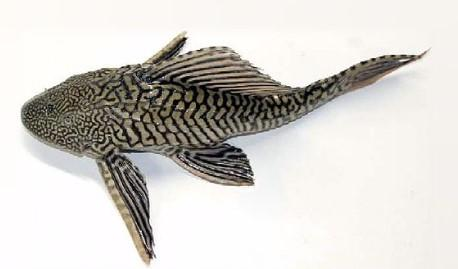Janitor Fish: (20, 31, 431, 269)
